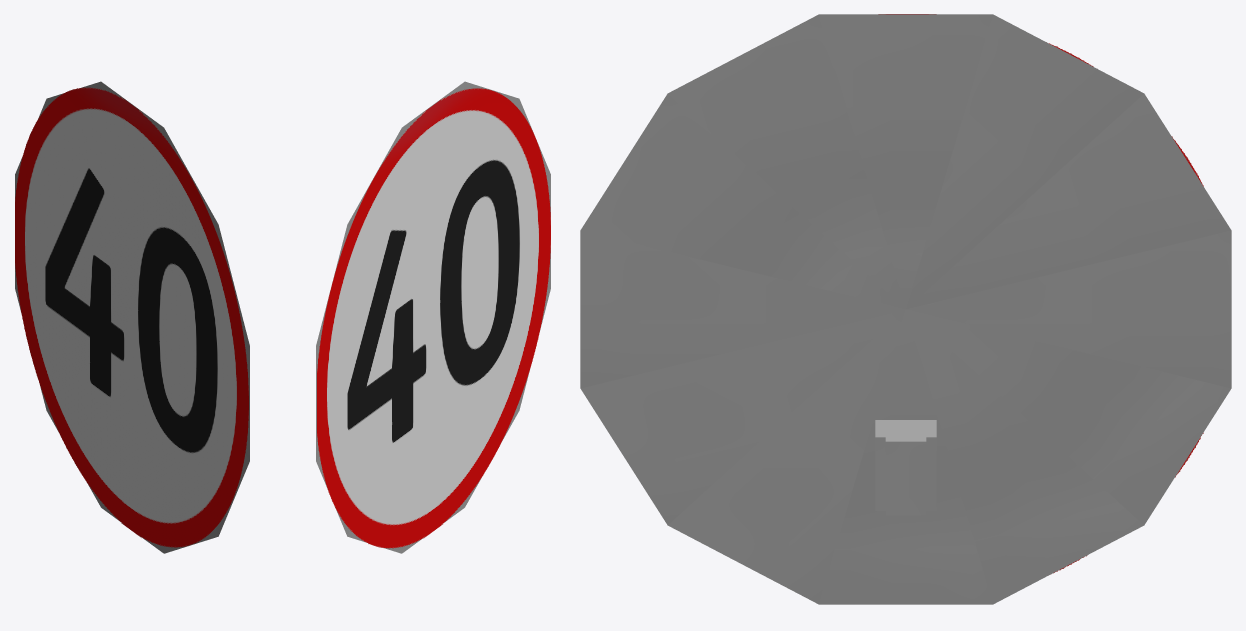
File: speed_40_large.obj
3 views of the same model, side by side, from view 1: azimuth 30°, elevation 25°; view 2: azimuth 150°, elevation 25°; view 3: azimuth 270°, elevation 25° (orthographic). The views are drawn at different scales.
Visible parts, largest first — view 1: cube, circle; view 2: cube, circle; view 3: circle, cube.
Part boxes in pixels (x1,y1,x2,y2): cube: [15, 87, 248, 547]; circle: [15, 81, 249, 553]; cube: [317, 88, 550, 548]; circle: [316, 81, 550, 553]; circle: [580, 14, 1231, 604]; cube: [875, 14, 1203, 573].
Size of the model in its own units: 0.0797 by 1 by 1.
2 materials, 2 textured.
